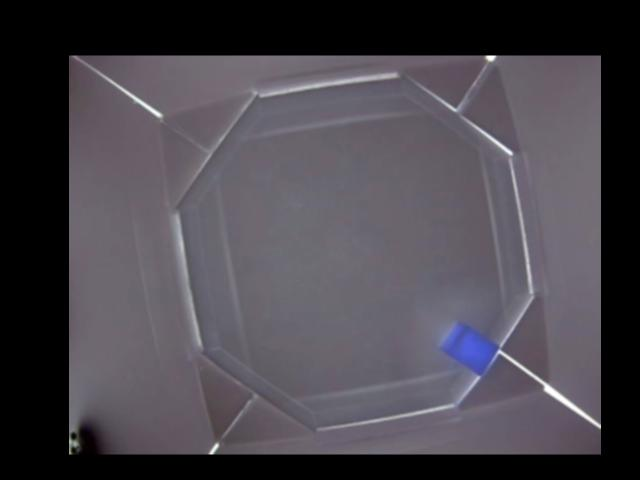Potato: (443, 321, 497, 372)
